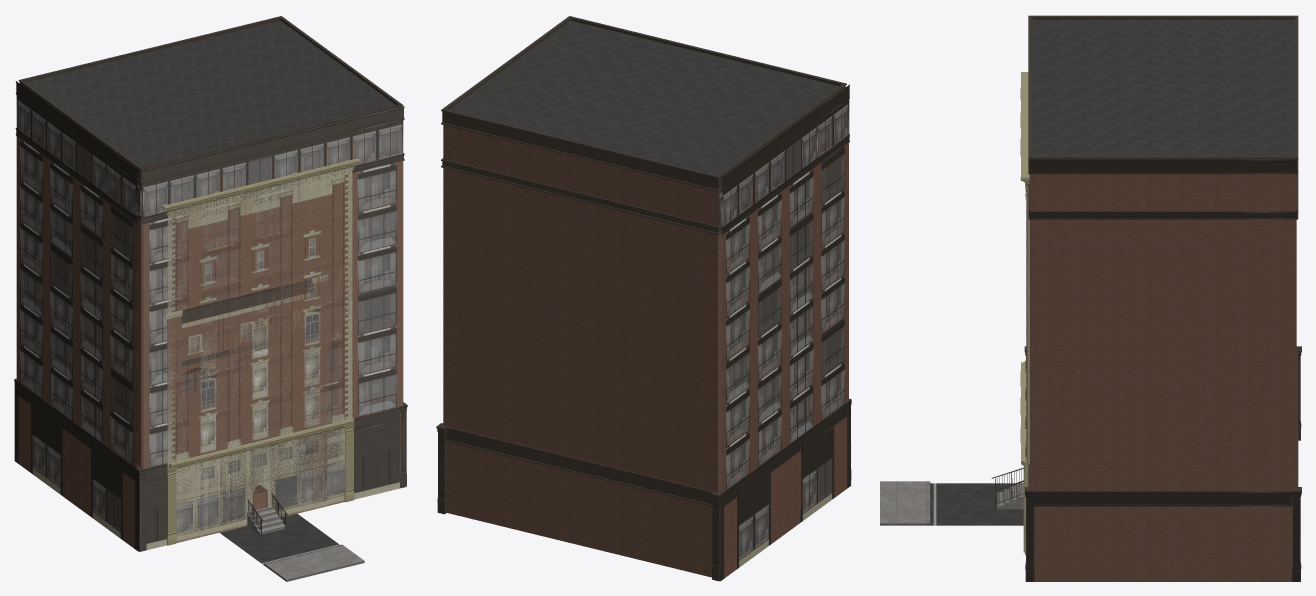
The model's file is city.glb.
3 views of the same model, side by side, from view 1: azimuth 30°, elevation 25°; view 2: azimuth 150°, elevation 25°; view 3: azimuth 270°, elevation 25° (orthographic). The views are drawn at different scales.
Visible parts, largest first — view 1: Building_Large_2_Imp, Building_Medium_2_001_Imp, Building_Large_2, Building_Small_1_Imp, Street_4Lane, Building_Medium_2_001, Building_Small_1; view 2: Building_Large_2, Building_Large_2_Imp; view 3: Building_Large_2_Imp, Building_Large_2, Street_4Lane, Building_Medium_2_001, Building_Medium_2_001_Imp, Building_Small_1.
Boxes of the visible parts, x1,y1,x2,y2 form: Building_Large_2_Imp: [14, 81, 406, 551]; Building_Medium_2_001_Imp: [162, 165, 354, 542]; Building_Large_2: [14, 16, 407, 551]; Building_Small_1_Imp: [166, 274, 328, 545]; Street_4Lane: [219, 513, 364, 581]; Building_Medium_2_001: [162, 158, 359, 545]; Building_Small_1: [247, 493, 287, 535]; Building_Large_2: [436, 16, 851, 581]; Building_Large_2_Imp: [719, 84, 851, 581]; Building_Large_2_Imp: [1025, 159, 1301, 581]; Building_Large_2: [1024, 15, 1301, 568]; Street_4Lane: [880, 481, 1023, 525]; Building_Medium_2_001: [1020, 72, 1029, 552]; Building_Medium_2_001_Imp: [1025, 178, 1029, 555]; Building_Small_1: [991, 467, 1023, 509].
Size of the model in its own units: 20.64 by 28.15 by 25.32.
16 materials, 15 textured.
